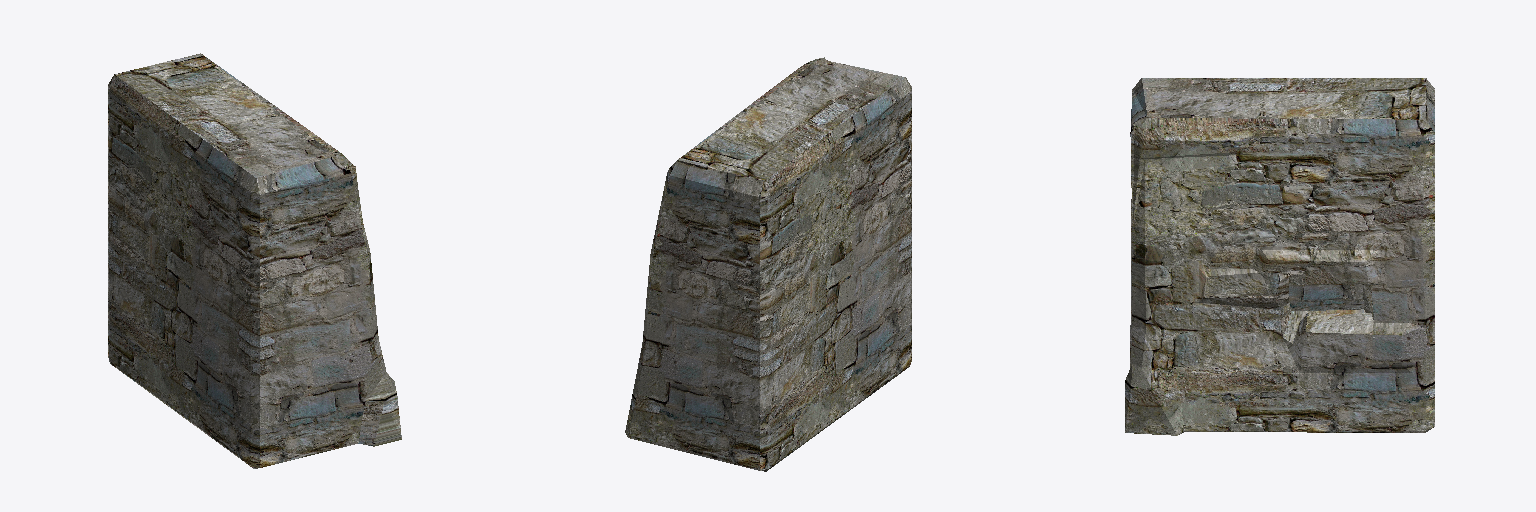
The picture shows the model from 3 angles: view 1: azimuth 30°, elevation 25°; view 2: azimuth 150°, elevation 25°; view 3: azimuth 270°, elevation 25°; orthographic projection.
Visible parts, largest first — view 1: ChamferBox02; view 2: ChamferBox02; view 3: ChamferBox02.
Part boxes in pixels (x1,y1,x2,y2): ChamferBox02: (108,53,401,468); ChamferBox02: (625,57,911,471); ChamferBox02: (1125,78,1434,435).
Size of the model in its own units: 1.49 by 2.79 by 2.71.
1 materials, 1 textured.